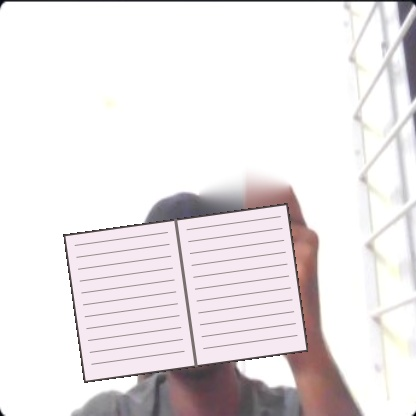book: (63, 203, 308, 383)
